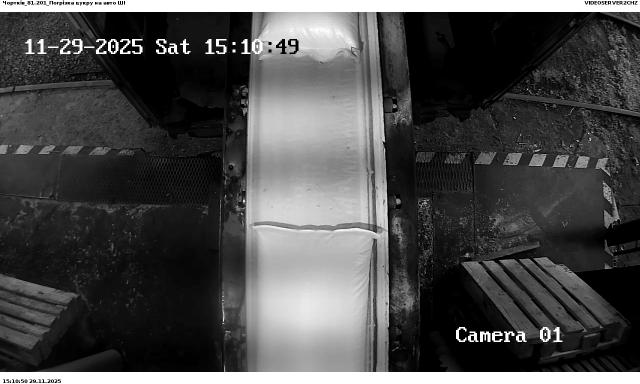bag: (252, 225, 379, 373), (256, 13, 366, 60)
